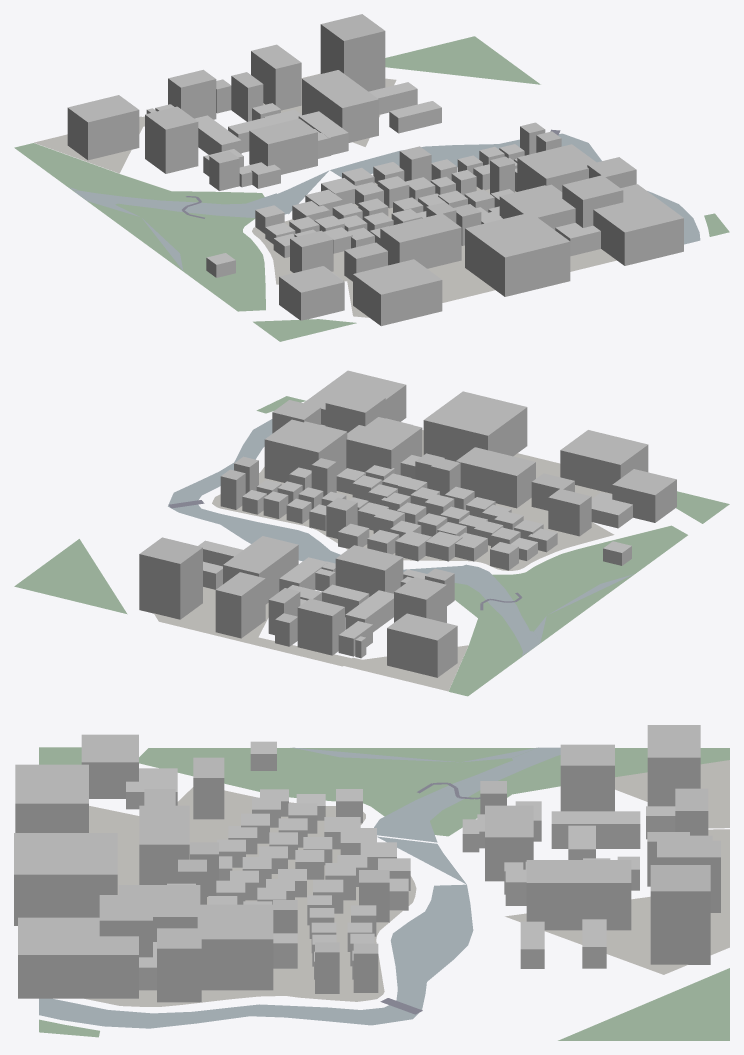
File: 117_113_mid.glb
3 views of the same model, one above another, from view 1: azimuth 30°, elevation 25°; view 2: azimuth 150°, elevation 25°; view 3: azimuth 270°, elevation 25° (orthographic). The views are drawn at different scales.
Size of the model in its own units: 500 by 59 by 518.
